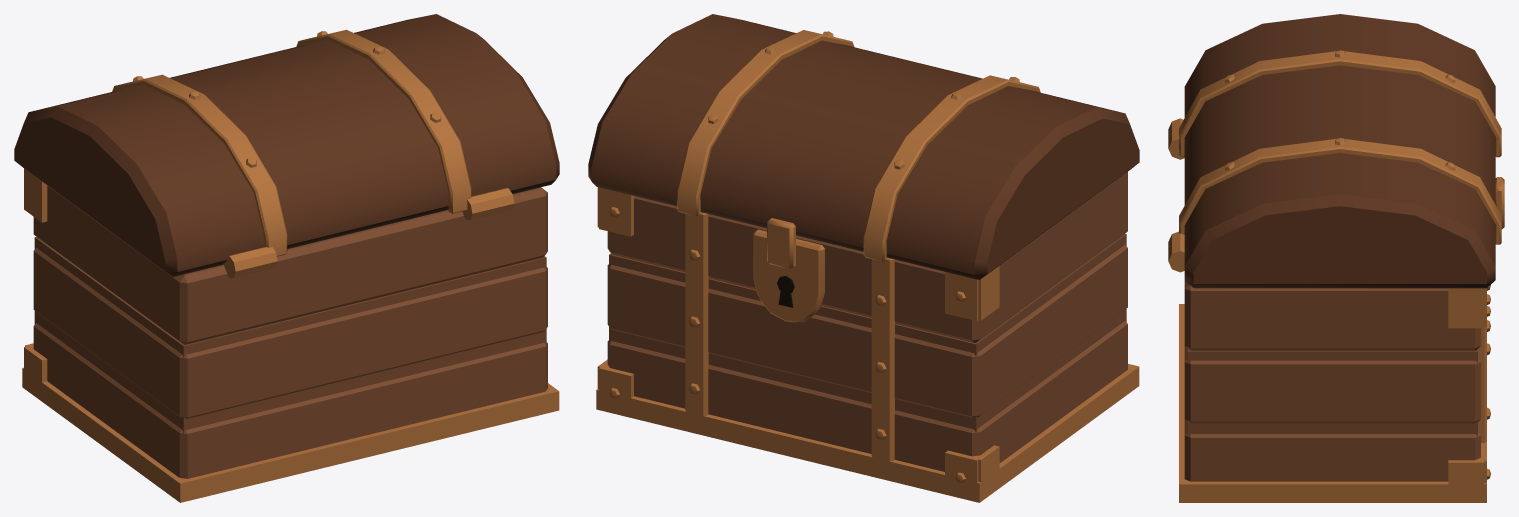
The model's file is coffre_bronze.fbx.
3 views of the same model, side by side, from view 1: azimuth 30°, elevation 25°; view 2: azimuth 150°, elevation 25°; view 3: azimuth 270°, elevation 25° (orthographic). The views are drawn at different scales.
Parts seen in each view (by area): view 1: Corps, Couvercle, Ferrures; view 2: Couvercle, Corps, Ferrures; view 3: Couvercle, Corps, Ferrures.
Part boxes in pixels (left/top/right/bottom): Corps: left=33, top=185, right=547, bottom=478; Couvercle: left=14, top=14, right=559, bottom=276; Ferrures: left=22, top=168, right=559, bottom=502; Couvercle: left=588, top=14, right=1139, bottom=279; Corps: left=607, top=172, right=1127, bottom=471; Ferrures: left=596, top=187, right=1139, bottom=502; Couvercle: left=1179, top=14, right=1504, bottom=288; Corps: left=1184, top=280, right=1480, bottom=481; Ferrures: left=1168, top=118, right=1490, bottom=502.
Size of the model in its own units: 1.5 by 1.18 by 1.13.
